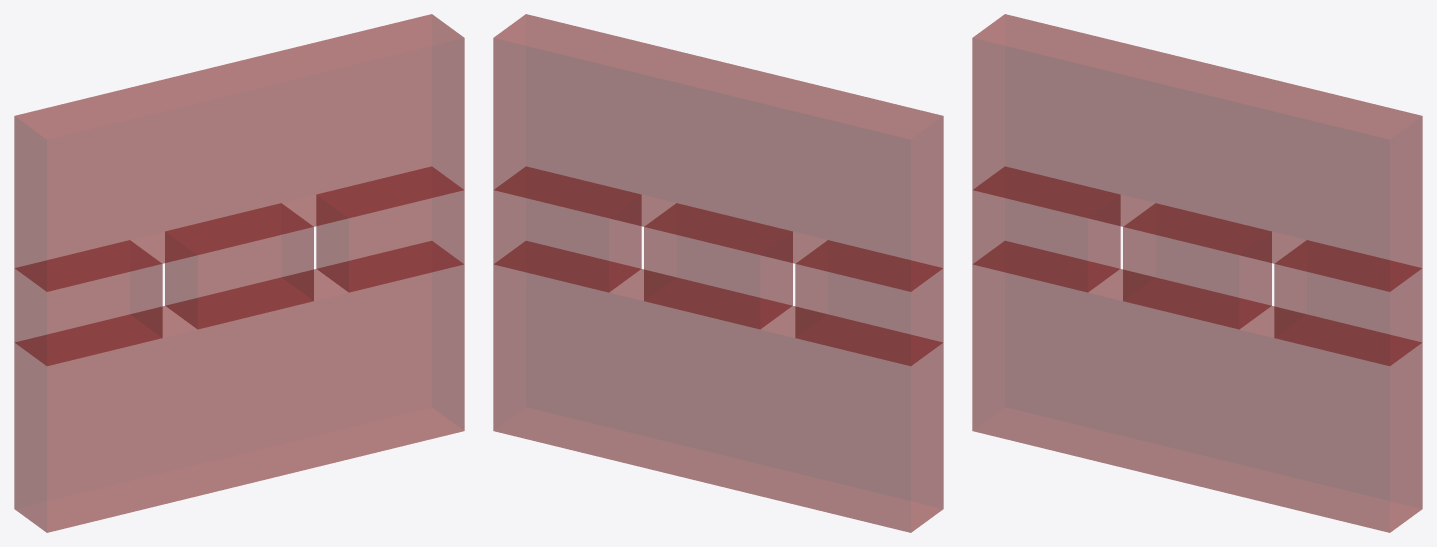
The model's file is SM_Bld_Wall_Large_Window_01_Collision.fbx.
3 views of the same model, side by side, from view 1: azimuth 30°, elevation 25°; view 2: azimuth 150°, elevation 25°; view 3: azimuth 330°, elevation 25° (orthographic).
Parts seen in each view (by area): view 1: SM_Bld_Wall_Large_Window_01_Collision; view 2: SM_Bld_Wall_Large_Window_01_Collision; view 3: SM_Bld_Wall_Large_Window_01_Collision.
Boxes of the visible parts, left/top/right/bottom form: SM_Bld_Wall_Large_Window_01_Collision: left=14, top=14, right=464, bottom=532; SM_Bld_Wall_Large_Window_01_Collision: left=493, top=14, right=943, bottom=532; SM_Bld_Wall_Large_Window_01_Collision: left=972, top=14, right=1422, bottom=532.
Size of the model in its own units: 500 by 450 by 67.5.
